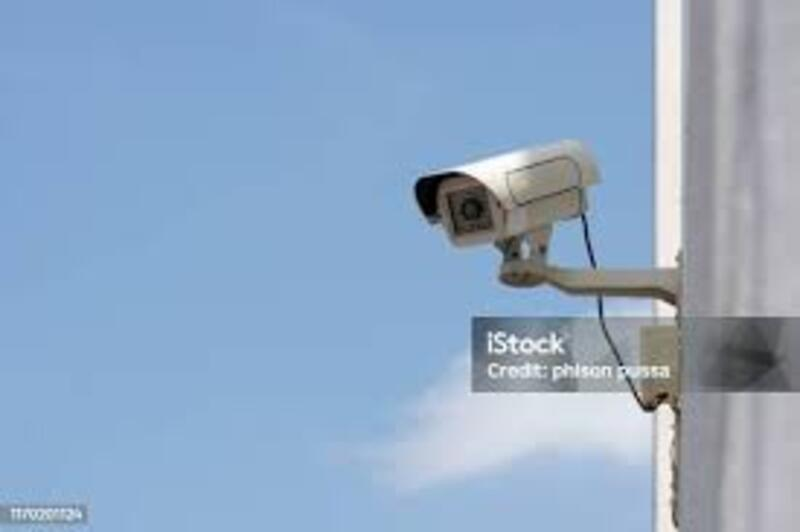box: (395, 184, 591, 276)
